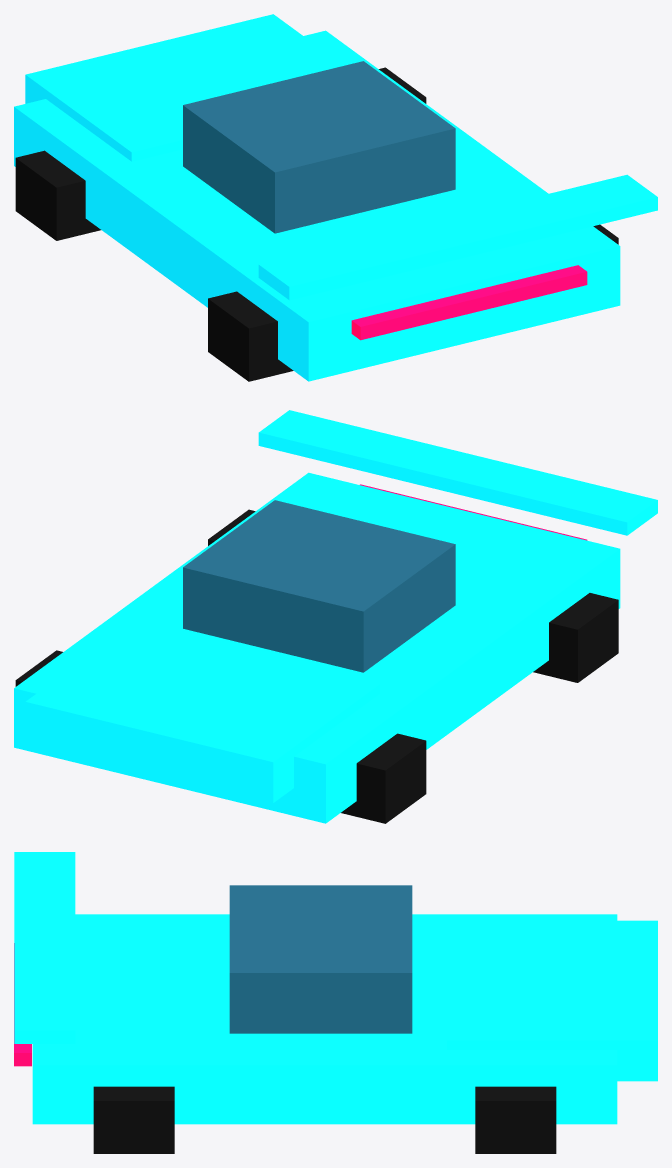
File: neon-supercar.gltf
The picture shows the model from 3 angles, top to bottom: view 1: azimuth 30°, elevation 25°; view 2: azimuth 150°, elevation 25°; view 3: azimuth 270°, elevation 25°; orthographic projection.
Visible parts, largest first — view 1: body, cabin, front, wing, tailGlow, wheelFL, wheelRL; view 2: body, front, cabin, wing, wheelFL, wheelRL; view 3: body, front, cabin, wing, wheelFR, wheelRR, tailGlow.
Part boxes in pixels (box(x1,y1,x2,y2)): body: box(14, 30, 620, 381); cabin: box(183, 61, 455, 233); front: box(25, 14, 343, 161); wing: box(258, 174, 657, 300); tailGlow: box(351, 265, 587, 340); wheelFL: box(15, 150, 100, 240); wheelRL: box(208, 291, 293, 381); body: box(14, 472, 620, 823); front: box(25, 624, 379, 802); cabin: box(183, 500, 455, 672); wing: box(258, 410, 657, 535); wheelFL: box(341, 733, 426, 823); wheelRL: box(533, 593, 618, 682); body: box(32, 914, 617, 1124); front: box(447, 920, 657, 1081); cabin: box(229, 885, 412, 1033); wing: box(14, 852, 75, 1043); wheelFR: box(475, 1086, 556, 1153); wheelRR: box(93, 1086, 174, 1153); tailGlow: box(14, 943, 31, 1066).
Bounding box in the file's own units: 5.22 × 1.84 × 7.93.
